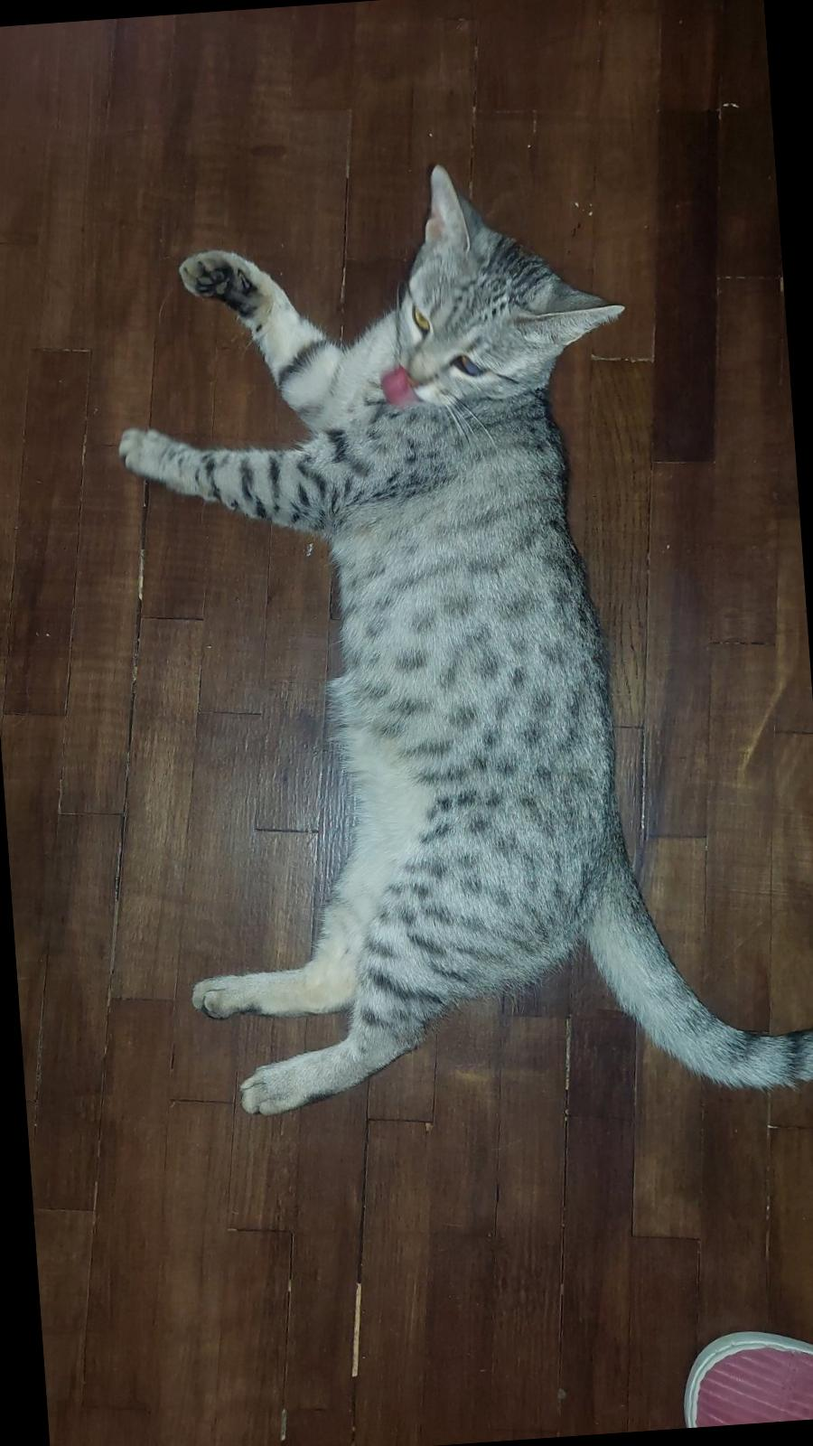macka: (95, 140, 813, 1127)
